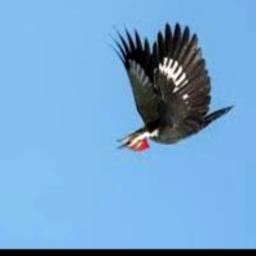Woodpecker: (109, 22, 234, 153)
